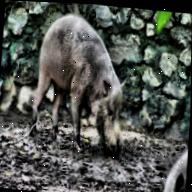boar: (27, 8, 131, 159)
